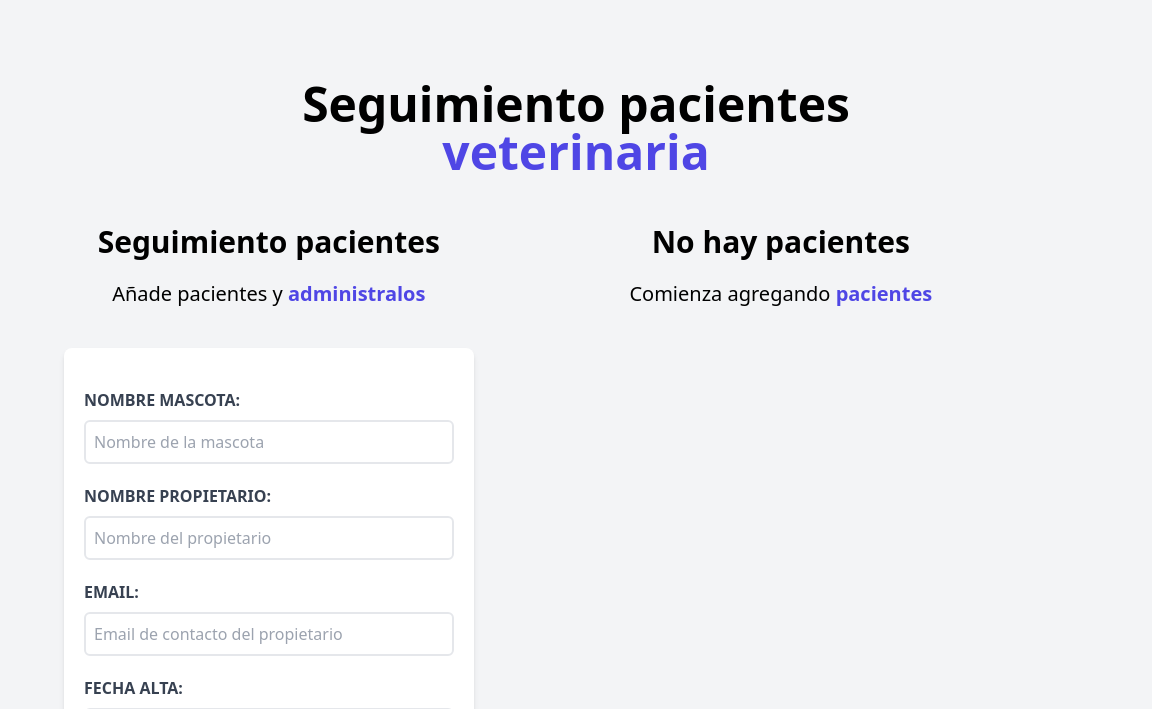
Test: should remove a patient date
Type "Test name" into the field with test id "pacientNameInput" at (269, 442), box [84,420,454,464]
Type "Test owner" into the field with test id "pacientOwnerNameInput" at (269, 538), box [84,516,454,560]
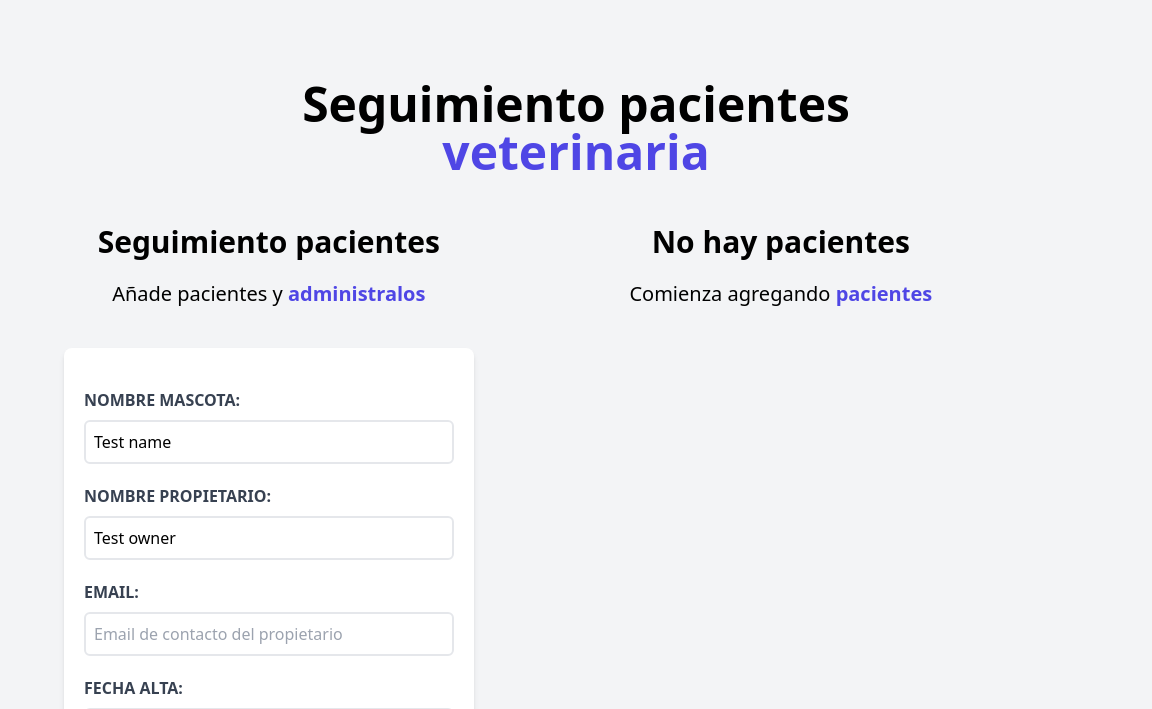
Type "test@email.com" into the field with test id "pacientEmailInput" at (269, 634), box [84,612,454,656]
(page scrolled)
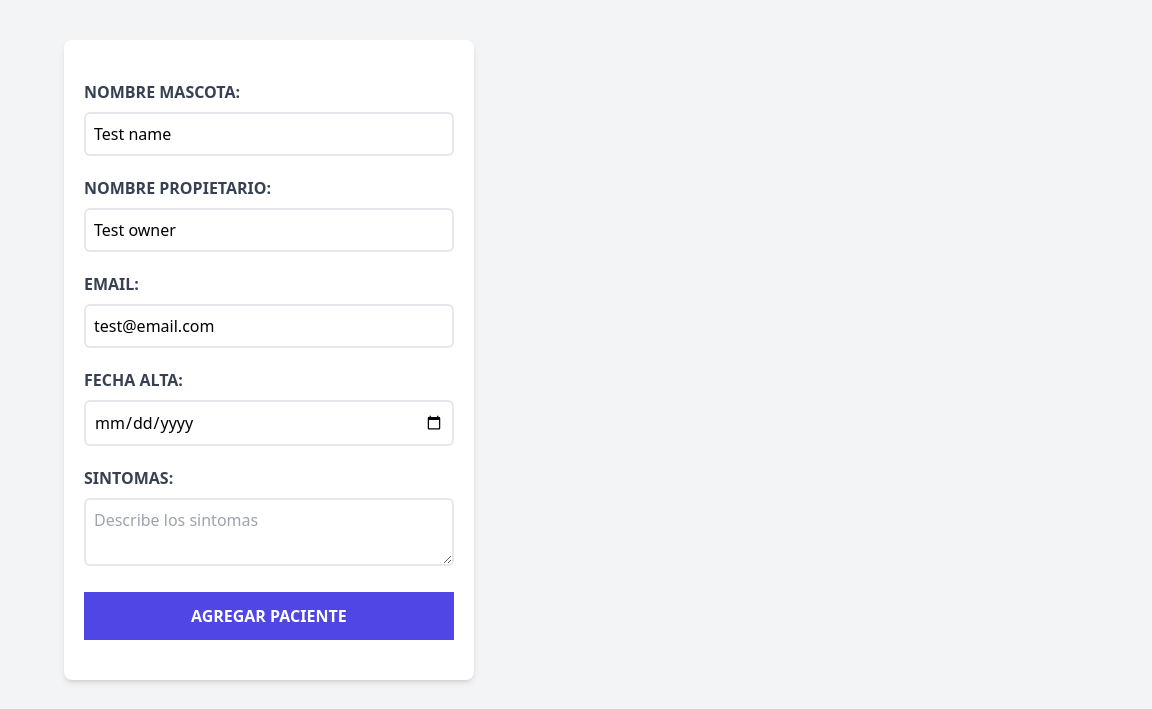
Type "2024-01-13" into the date field with test id "signUpDateInput" at (269, 423), box [84,400,454,446]
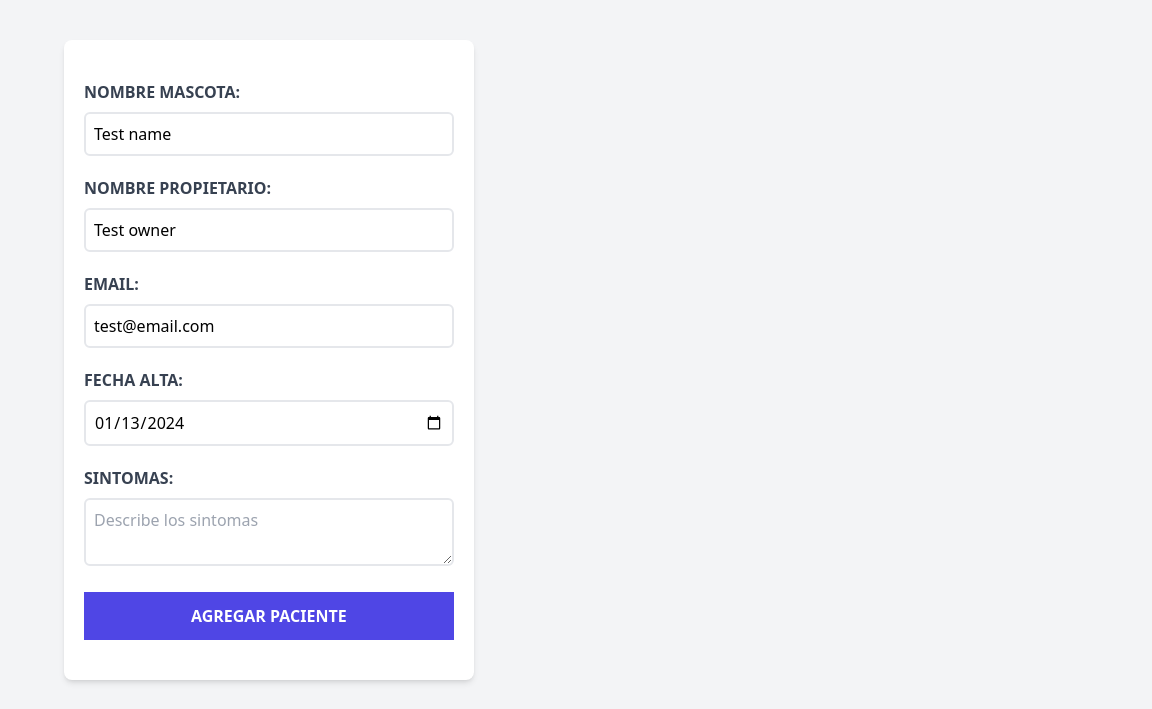
Type "Test symptoms" into the text box with test id "pacientSymptomsInput" at (269, 532), box [84,498,454,566]
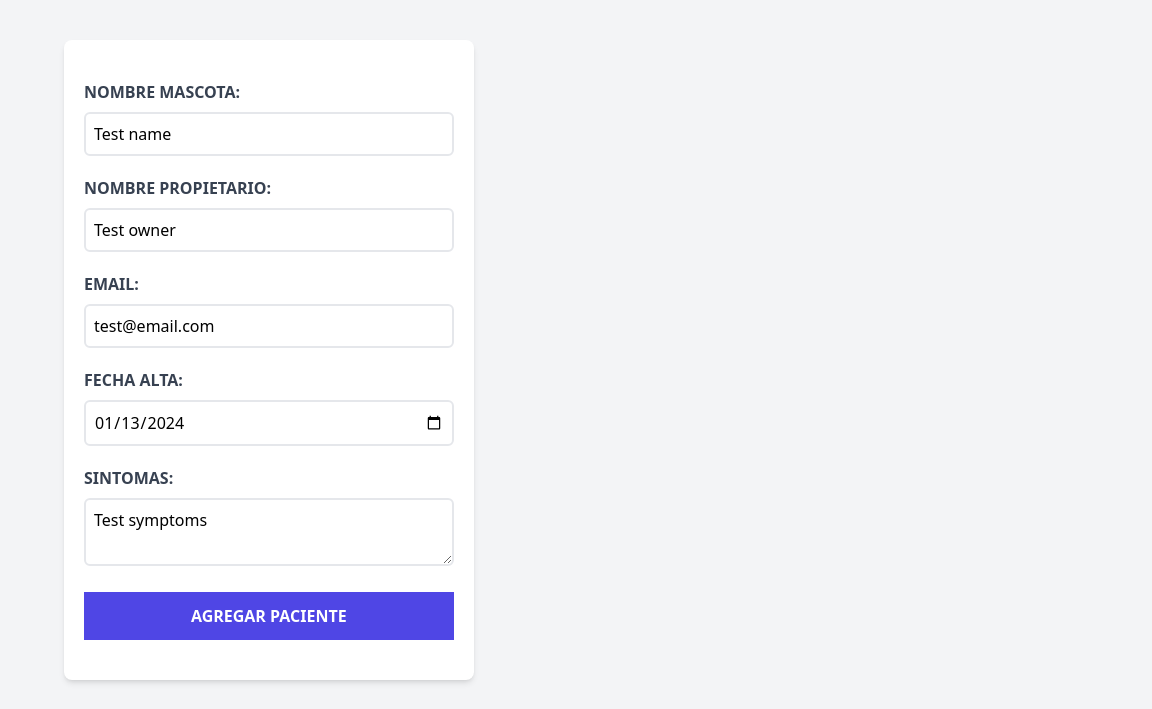
Click the button with test id "submitButtonId" at (269, 616), box [84,592,454,640]
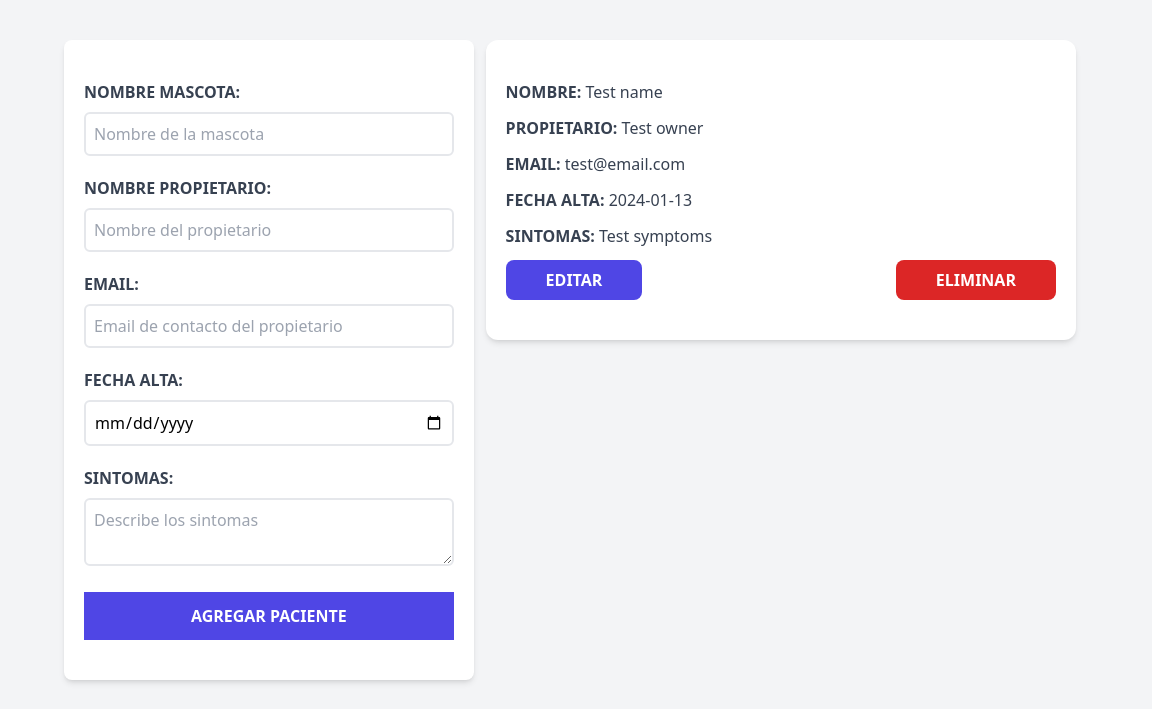
Click the button with test id "pacientCardDeleteButton" at (976, 280), box [896,260,1056,300]
(page scrolled)
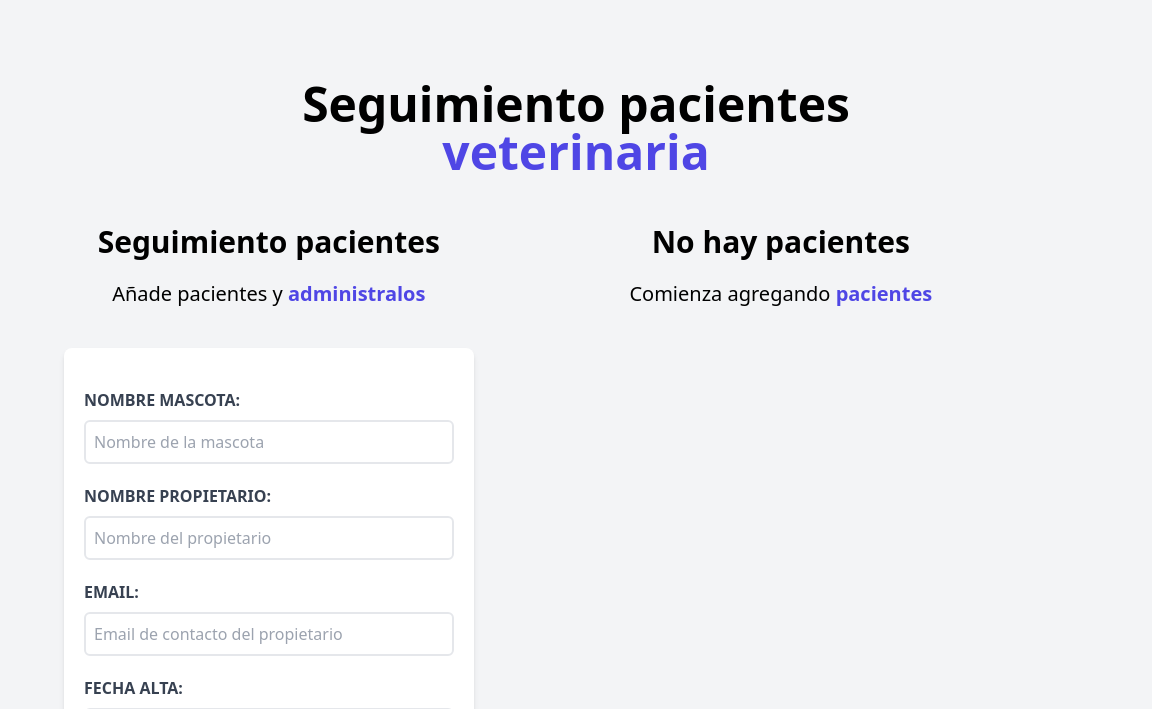
Now the heading "No hay pacientes" is shown, box [652,221,910,262]
